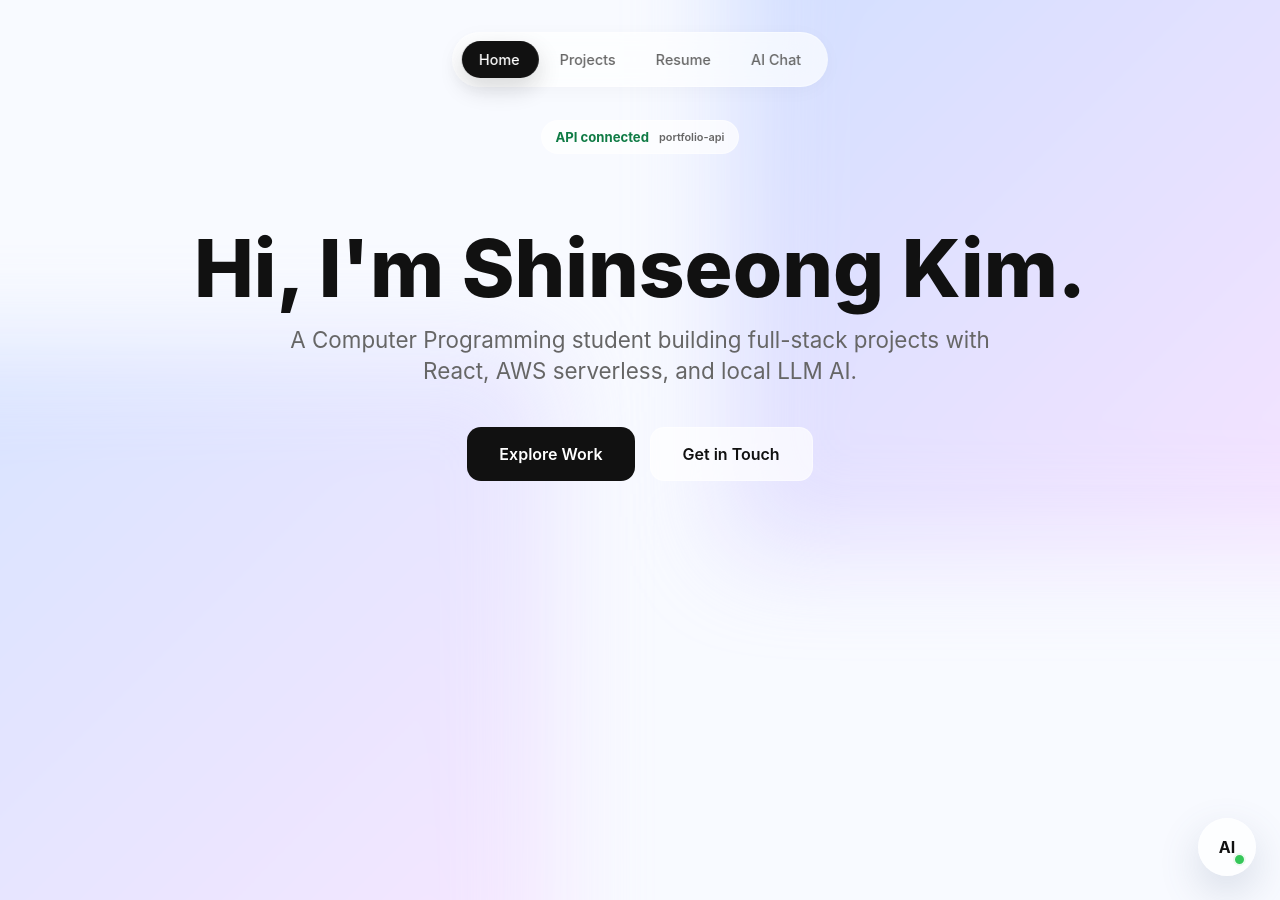
Test: App › opens the AI Chat tab and sends a message
// Open the global chat widget
Click the button with aria-label "Open AI chat".
click(1227, 847)  # box [1198, 818, 1256, 876]
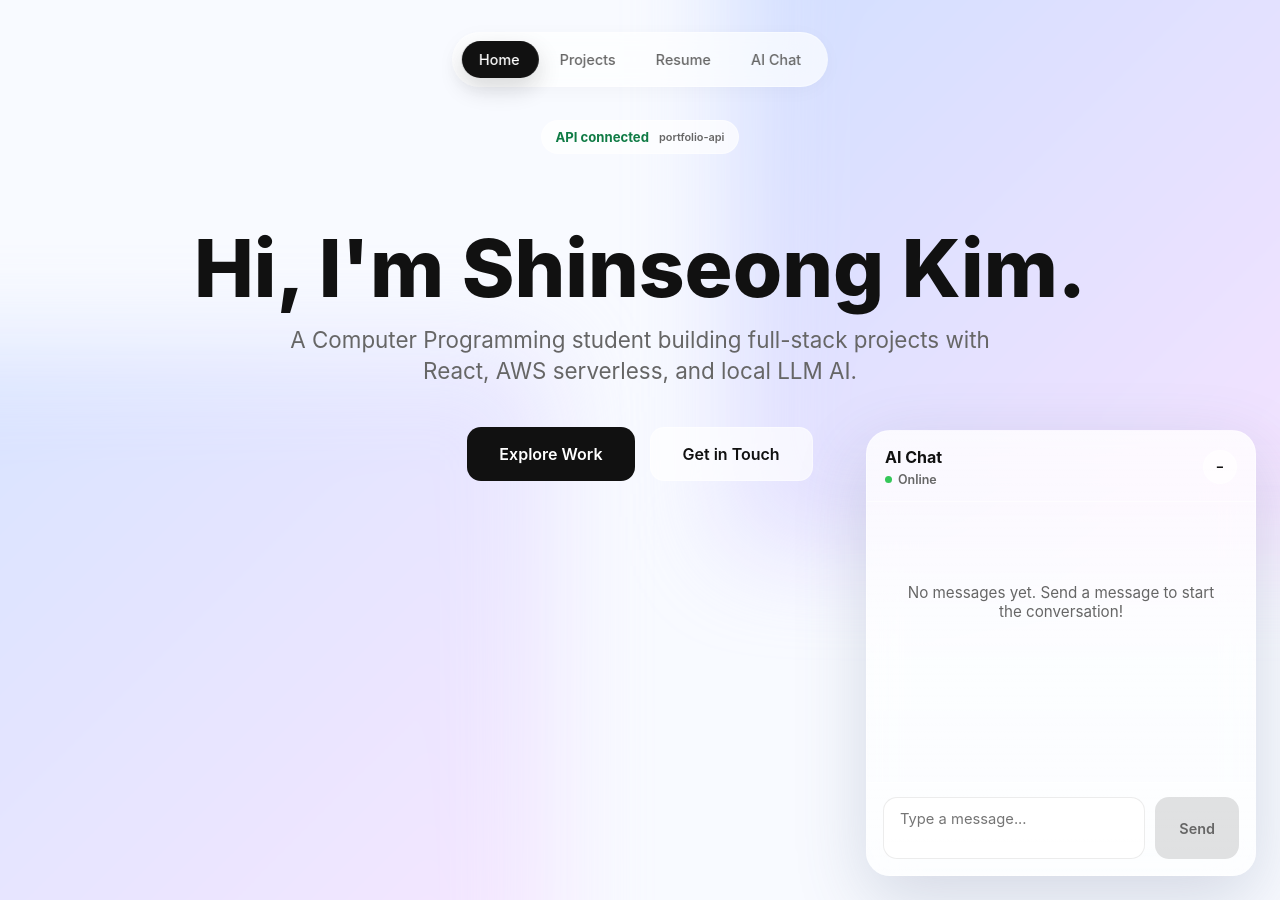
Result: the heading "AI Chat" is shown at [885, 447, 942, 467]
Result: the text "No messages yet. Send a message to start the conversation!" is shown at [901, 583, 1221, 621]
// Type a message and send
Type "Tell me about your skills" into the text box with class "chat-input".
click(1014, 828); type("Tell me about your skills")  # box [883, 797, 1145, 859]
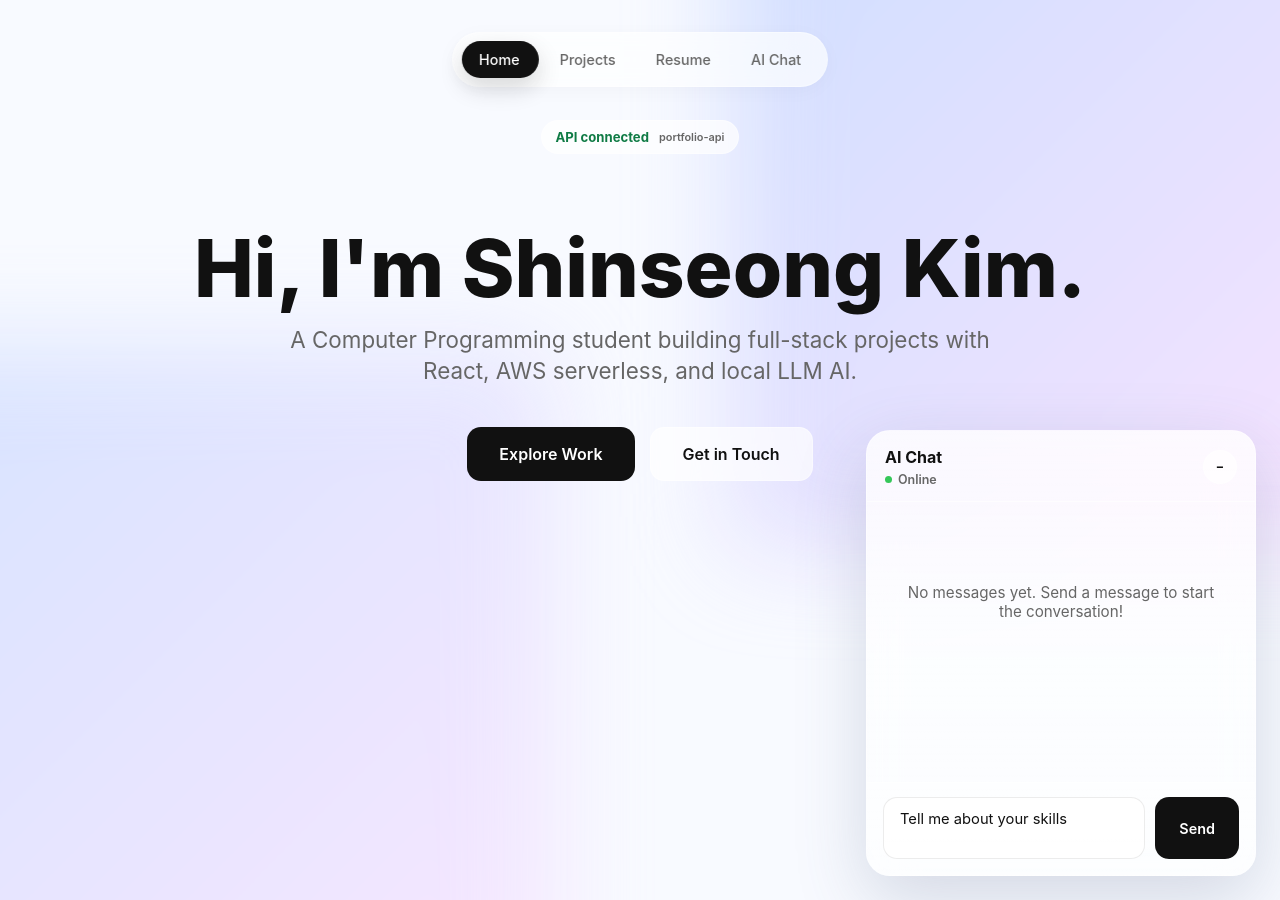
Click the button "Send".
click(1197, 828)  # box [1155, 797, 1239, 859]
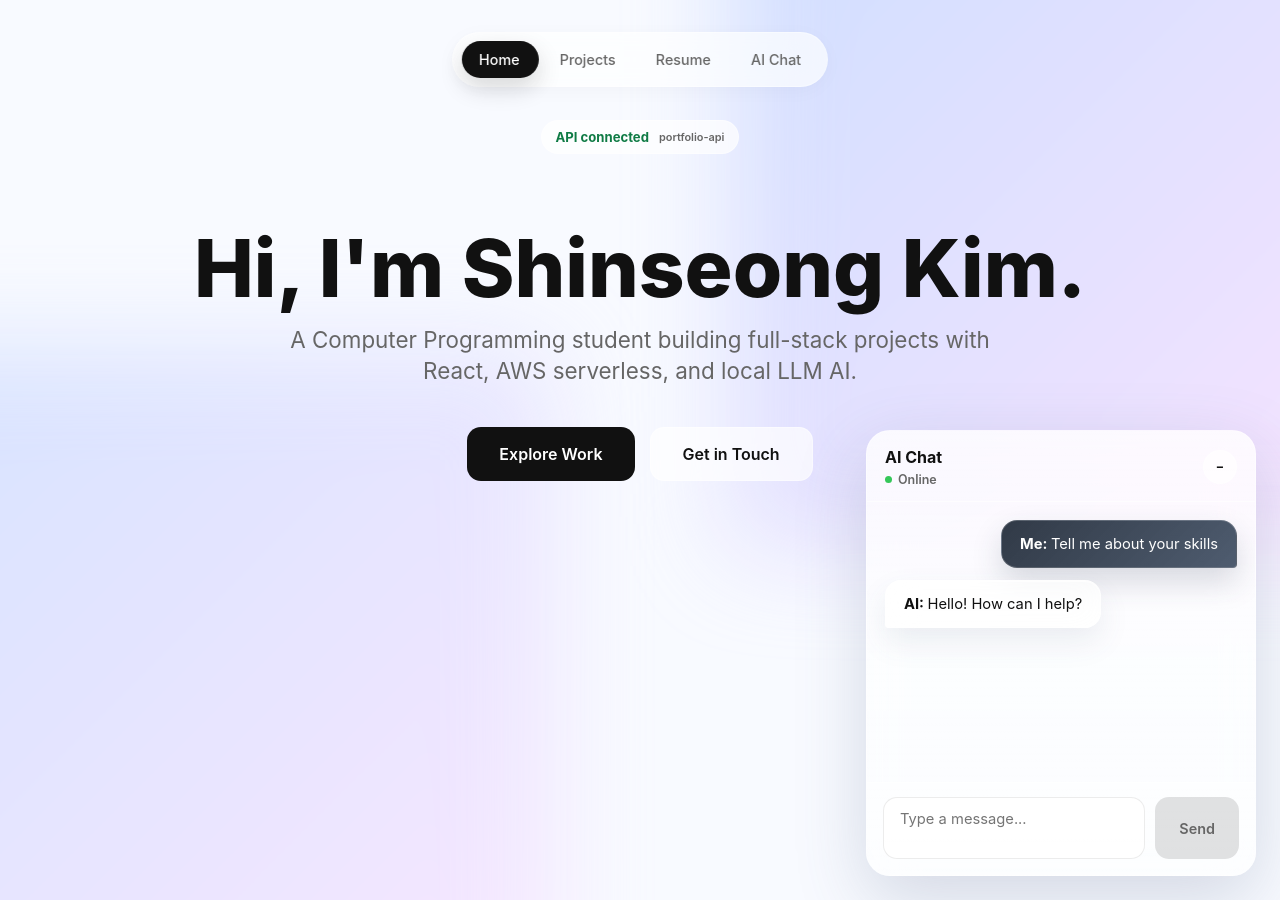
Result: the element with class "chat-messages" shows "Me:" at [1020, 535, 1051, 553]
Result: the element with class "chat-messages" shows "Tell me about your skills" at [1051, 535, 1218, 553]
Result: the element with class "chat-messages" shows "AI:" at [904, 595, 928, 613]
